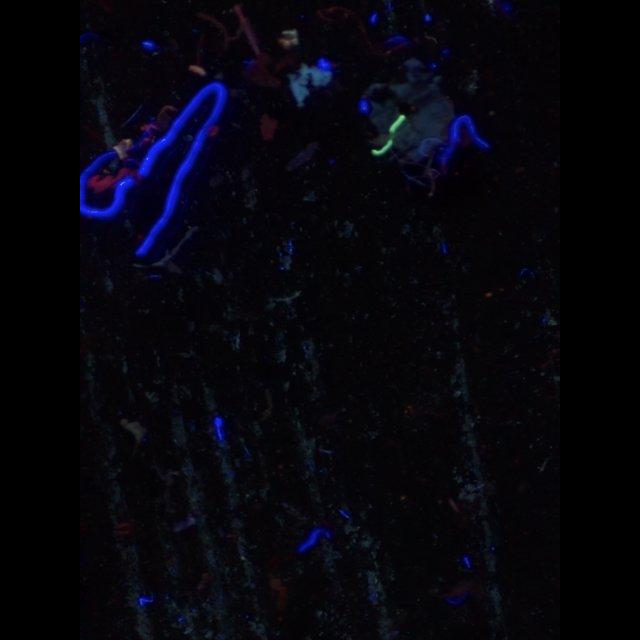Fibre: (119, 414, 149, 446)
